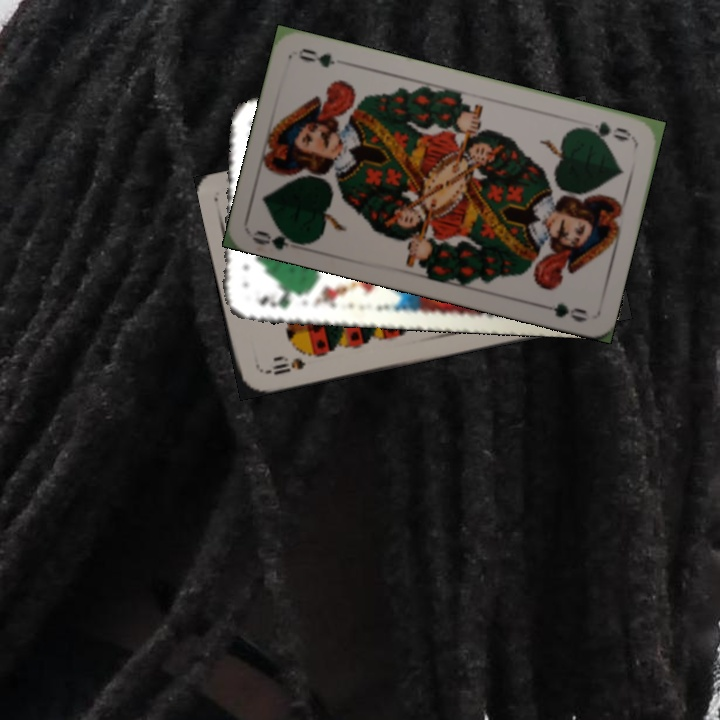GK: (255, 288, 305, 312)
GO: (249, 223, 309, 252), (576, 117, 635, 144)
S10: (259, 353, 308, 378)
